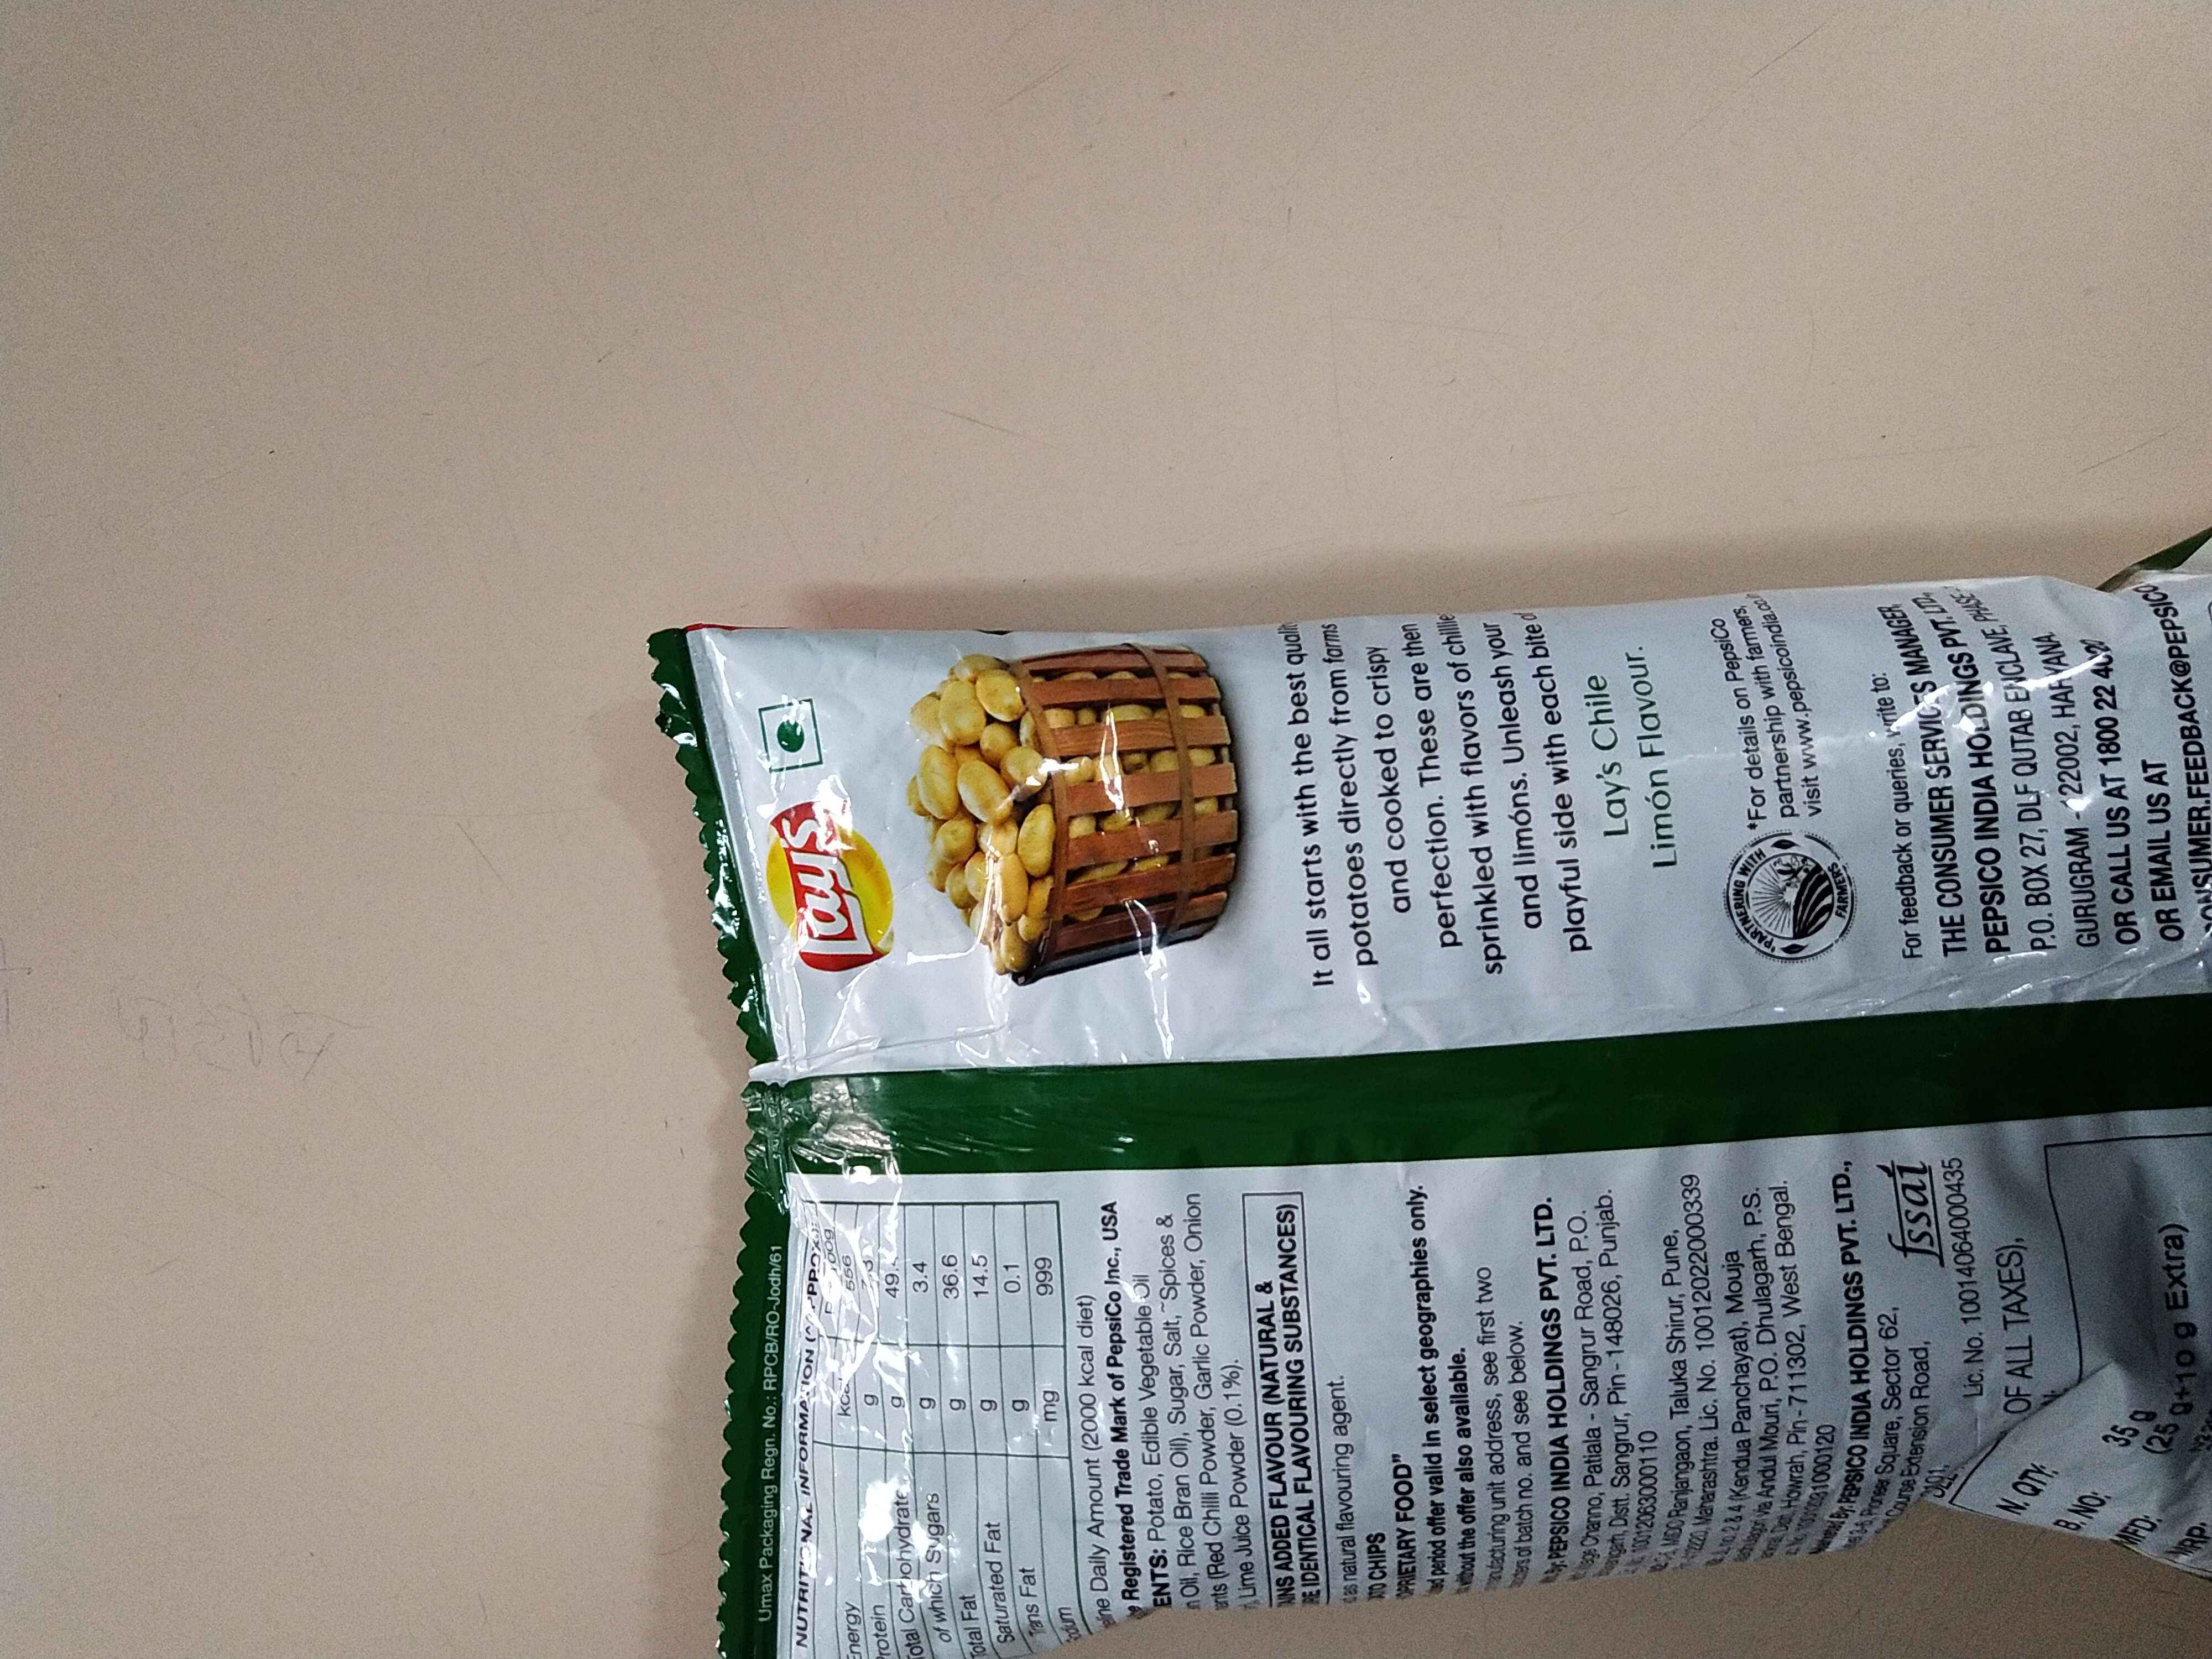Lays: (751, 781, 913, 985)
